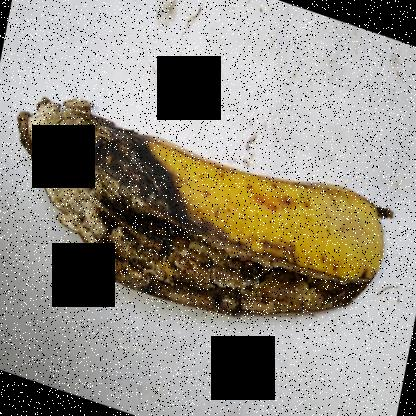rotten: (4, 81, 368, 352)
